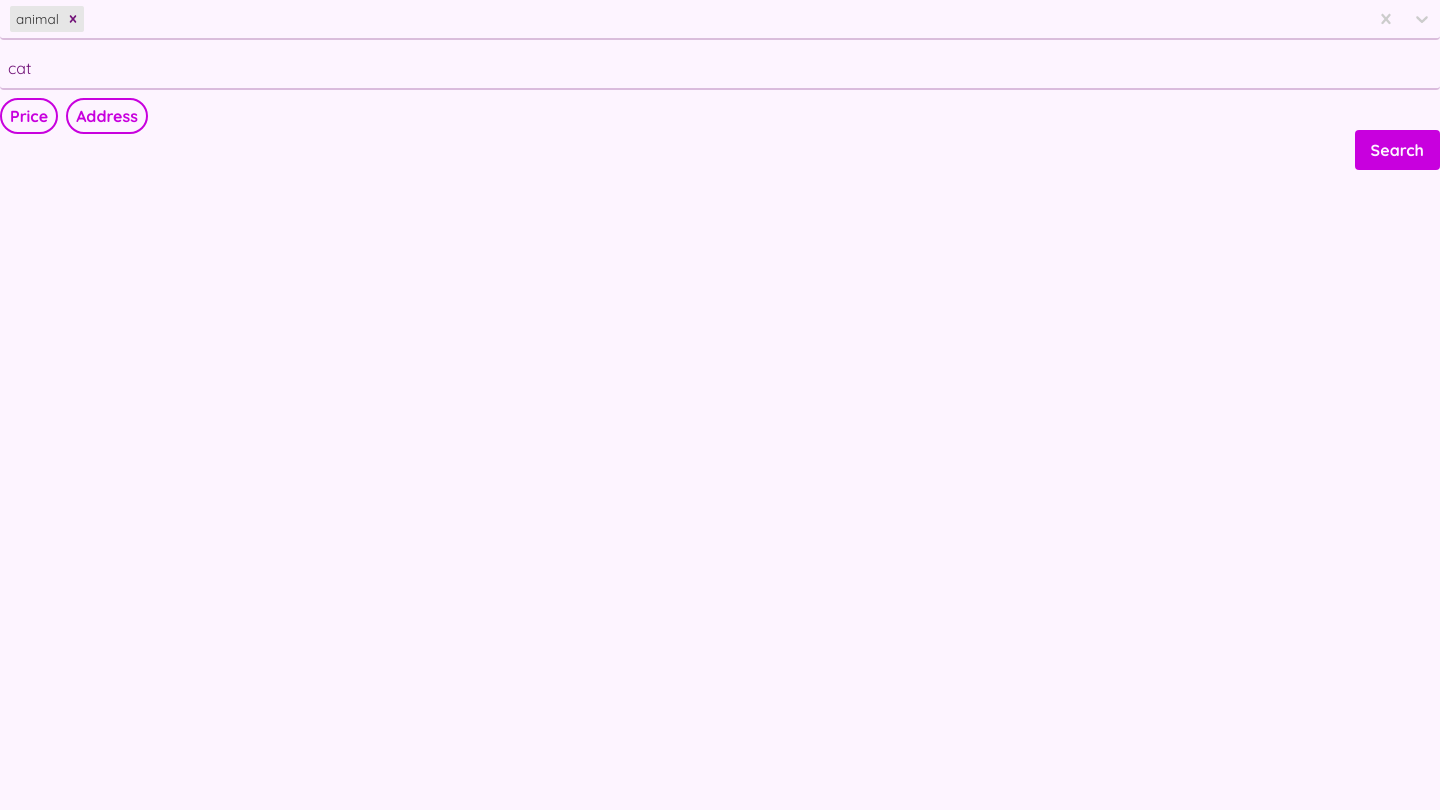
Test: uses the search params to fill in the form
Check: the search field holds "cat", box [8, 56, 1432, 80]
Click the button "Price" at (29, 116), box [0, 98, 58, 134]
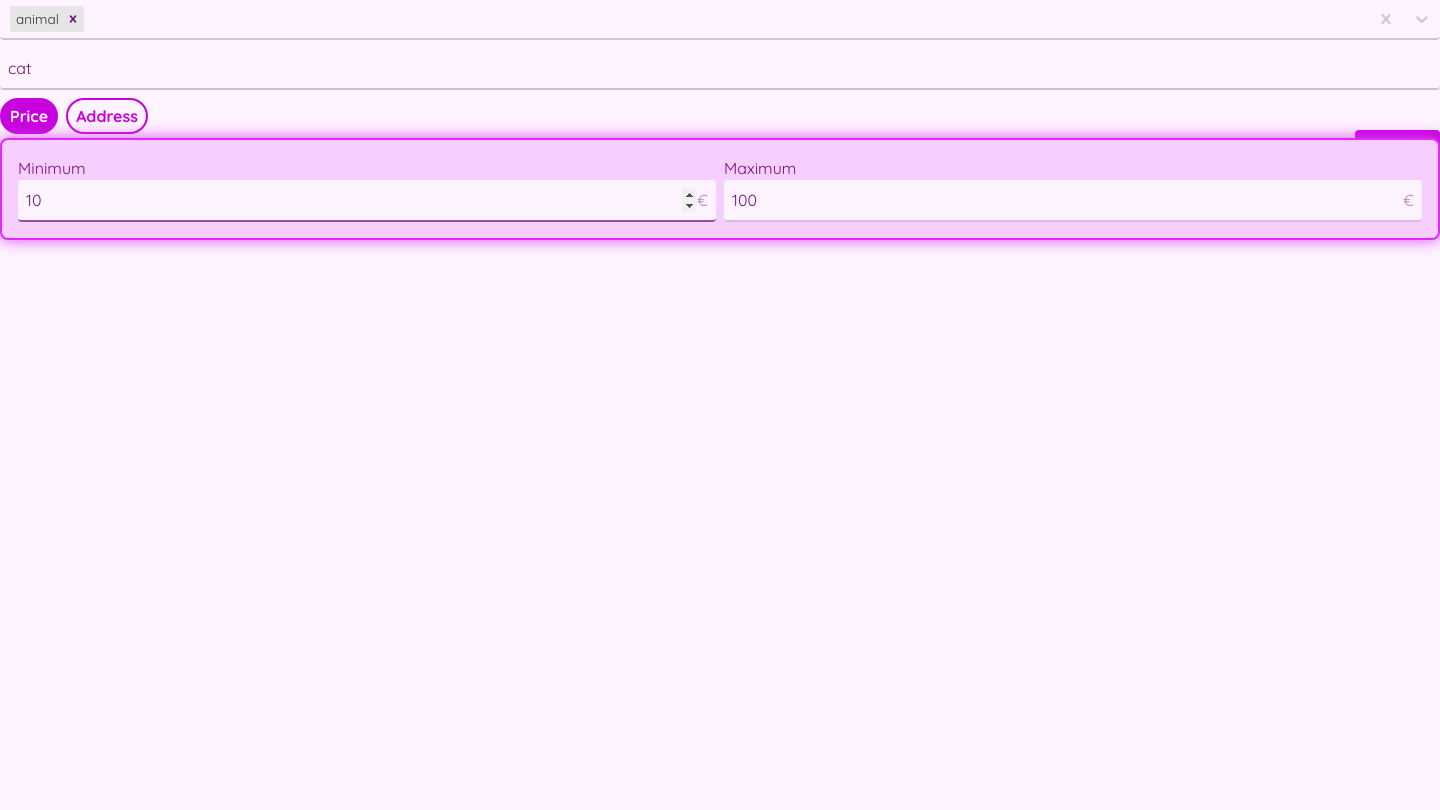
Check: the number field labelled "Minimum" holds "10", box [26, 188, 697, 212]
Check: the number field labelled "Maximum" holds "100", box [732, 188, 1403, 212]
Click the button "Address" at (107, 116), box [66, 98, 148, 134]
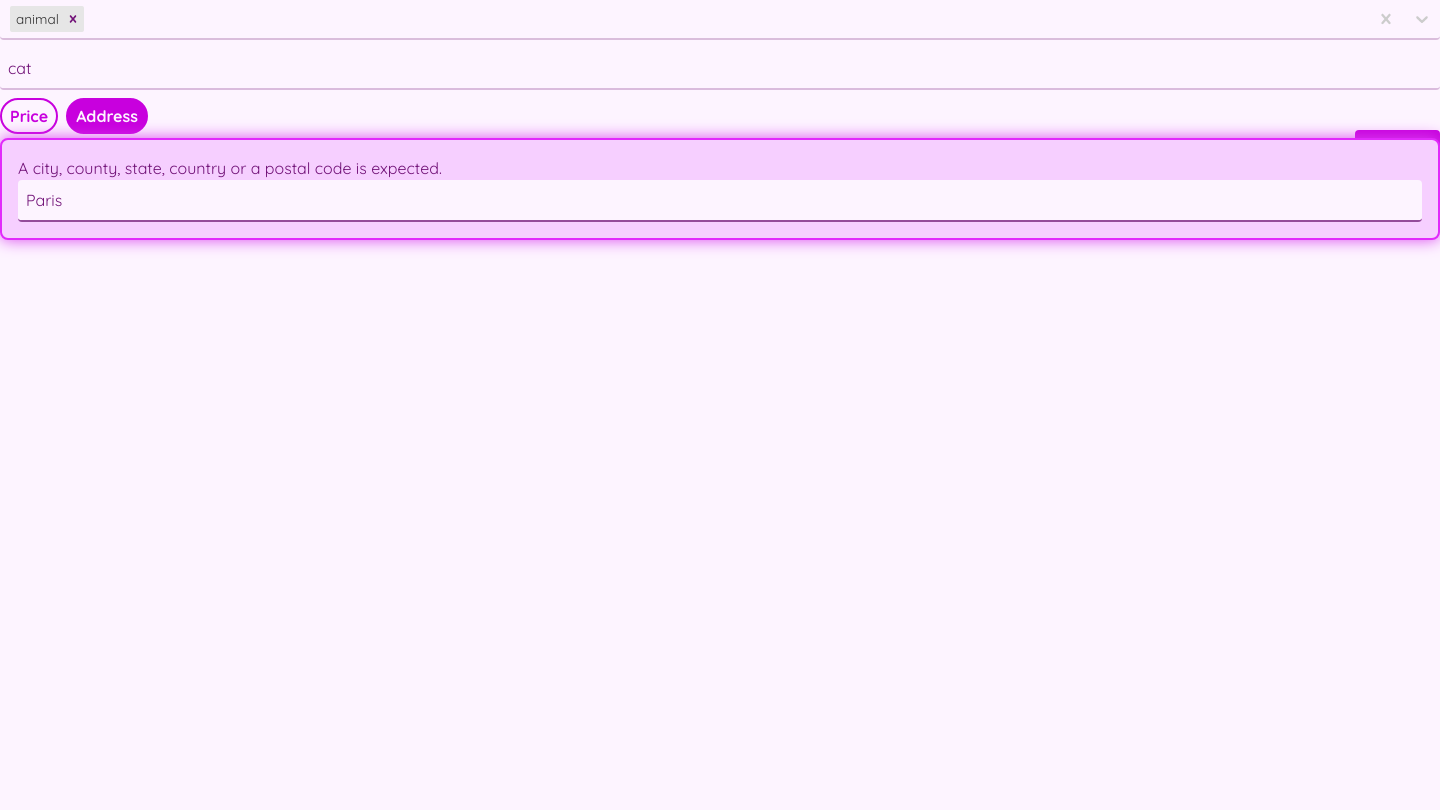
Check: the text "animal" is shown, box [16, 10, 59, 27]
Check: the field labelled "A city, county, state, country or a postal code is expected." holds "Paris", box [26, 188, 1414, 212]
